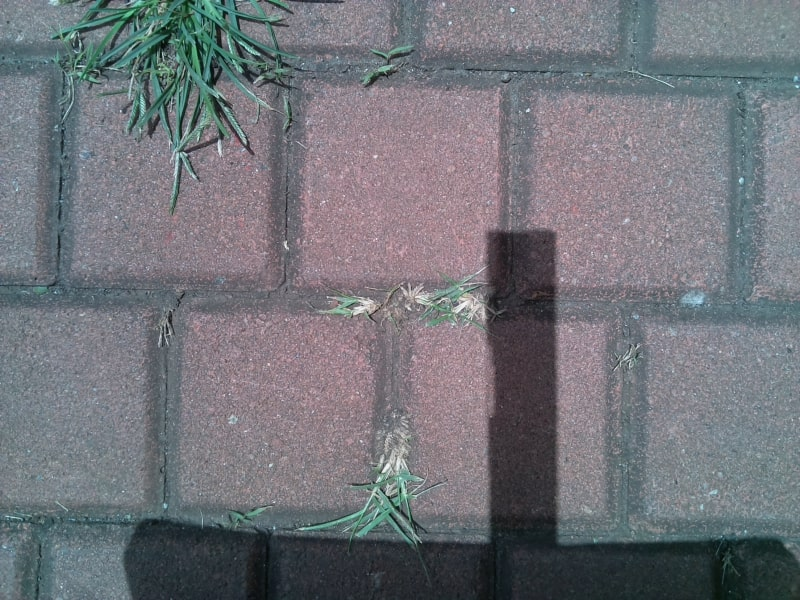Weed: (113, 1, 278, 155), (365, 415, 414, 544), (50, 41, 117, 100), (405, 280, 480, 325), (442, 282, 504, 325), (323, 289, 394, 324), (361, 48, 411, 86), (156, 288, 185, 348), (223, 504, 272, 529), (713, 536, 742, 577), (615, 344, 643, 372), (281, 95, 296, 136)
